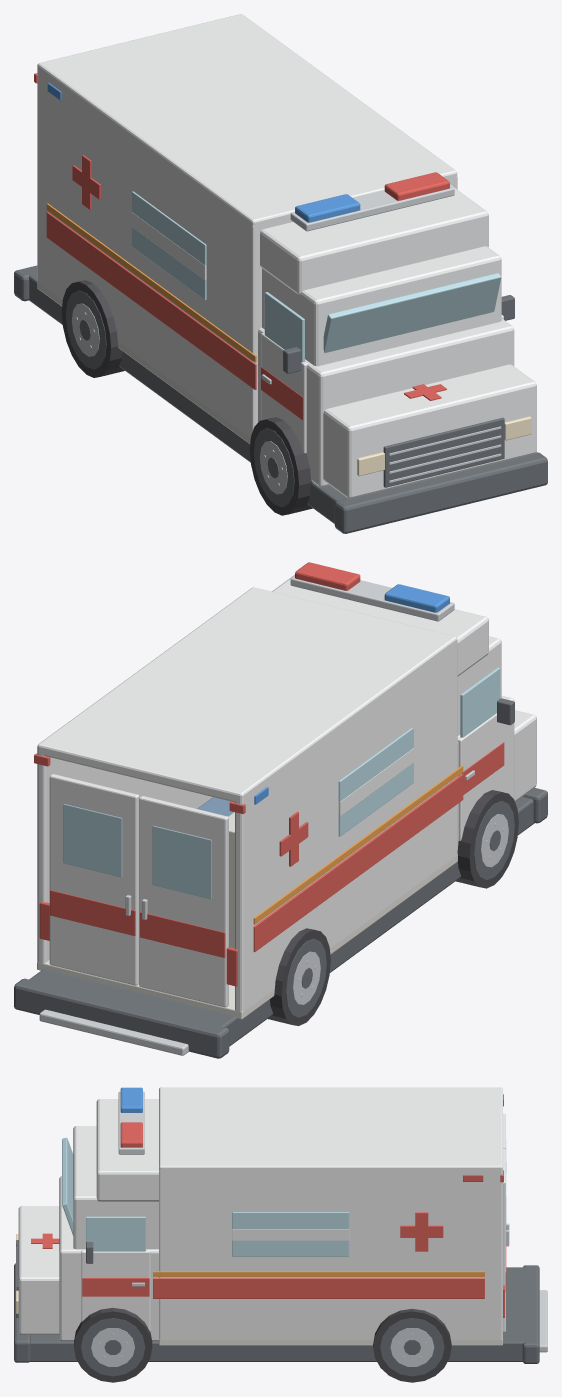
The model's file is SM_Ambulance.fbx.
3 views of the same model, one above another, from view 1: azimuth 30°, elevation 25°; view 2: azimuth 150°, elevation 25°; view 3: azimuth 270°, elevation 25° (orthographic). The views are drawn at different scales.
Visible parts, largest first — view 1: Ambulance_Body, Door_FL_Hinge, Wheel_FL_Pivot, Wheel_RL_Pivot, Lightbar_Frame, Beacon_Red_Lens, Beacon_Blue_Lens; view 2: Ambulance_Body, Door_RR_Hinge, Door_RL_Hinge, Door_FL_Hinge, Wheel_FL_Pivot, Wheel_RL_Pivot, Lightbar_Frame, Beacon_Red_Lens, Beacon_Blue_Lens; view 3: Ambulance_Body, Door_FR_Hinge, Wheel_FR_Pivot, Wheel_RR_Pivot, Lightbar_Frame, Door_RR_Hinge, Beacon_Red_Lens, Beacon_Blue_Lens.
Part boxes in pixels (bbox=[...]): Ambulance_Body: bbox=[14, 14, 547, 533]; Door_FL_Hinge: bbox=[261, 292, 307, 453]; Wheel_FL_Pivot: bbox=[249, 417, 312, 515]; Wheel_RL_Pivot: bbox=[61, 280, 124, 377]; Lightbar_Frame: bbox=[290, 185, 454, 231]; Beacon_Red_Lens: bbox=[384, 172, 449, 200]; Beacon_Blue_Lens: bbox=[295, 194, 360, 222]; Ambulance_Body: bbox=[14, 575, 547, 1058]; Door_RR_Hinge: bbox=[49, 774, 139, 985]; Door_RL_Hinge: bbox=[139, 796, 228, 1007]; Door_FL_Hinge: bbox=[457, 667, 514, 840]; Wheel_FL_Pivot: bbox=[456, 790, 518, 888]; Wheel_RL_Pivot: bbox=[268, 928, 330, 1025]; Lightbar_Frame: bbox=[290, 576, 454, 621]; Beacon_Red_Lens: bbox=[295, 562, 360, 590]; Beacon_Blue_Lens: bbox=[384, 584, 449, 612]; Ambulance_Body: bbox=[14, 1087, 547, 1363]; Door_FR_Hinge: bbox=[81, 1216, 150, 1331]; Wheel_FR_Pivot: bbox=[74, 1308, 152, 1382]; Wheel_RR_Pivot: bbox=[373, 1308, 451, 1382]; Lightbar_Frame: bbox=[118, 1091, 144, 1154]; Door_RR_Hinge: bbox=[503, 1148, 509, 1332]; Beacon_Red_Lens: bbox=[120, 1122, 142, 1147]; Beacon_Blue_Lens: bbox=[120, 1087, 142, 1112].
Bounding box in the file's own units: 224 × 571 × 266.
